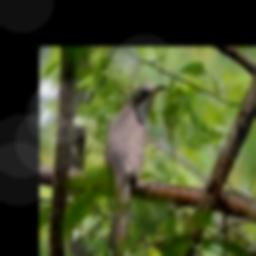Cuckoo: (104, 85, 168, 256)
